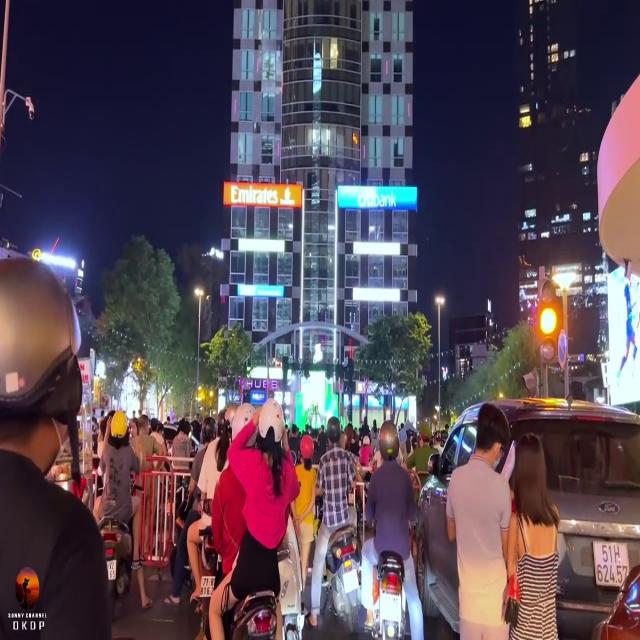bien_trang: (596, 540, 630, 590)
